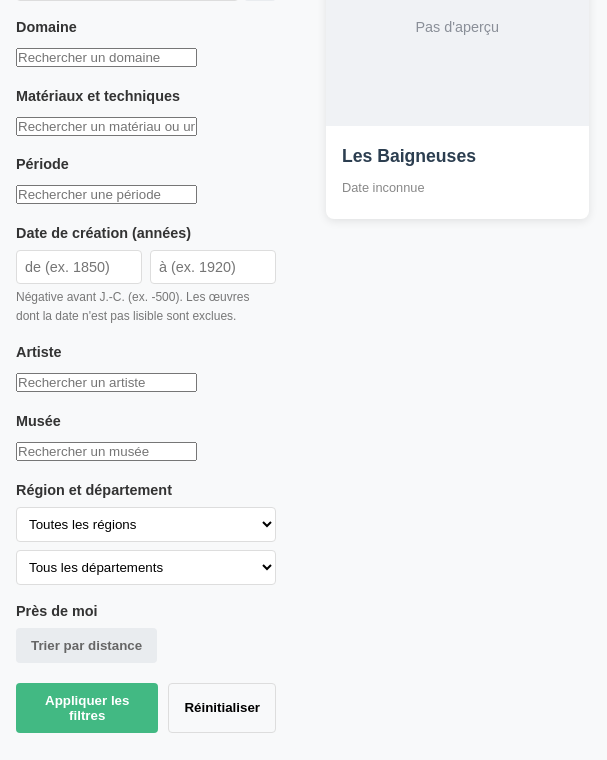
SearchView : recherche géographique › explique quand la position est refusée, sans changer la recherche
(page scrolled)
Click the button with test id "near-me".
click(87, 645)  # box [16,628,157,663]
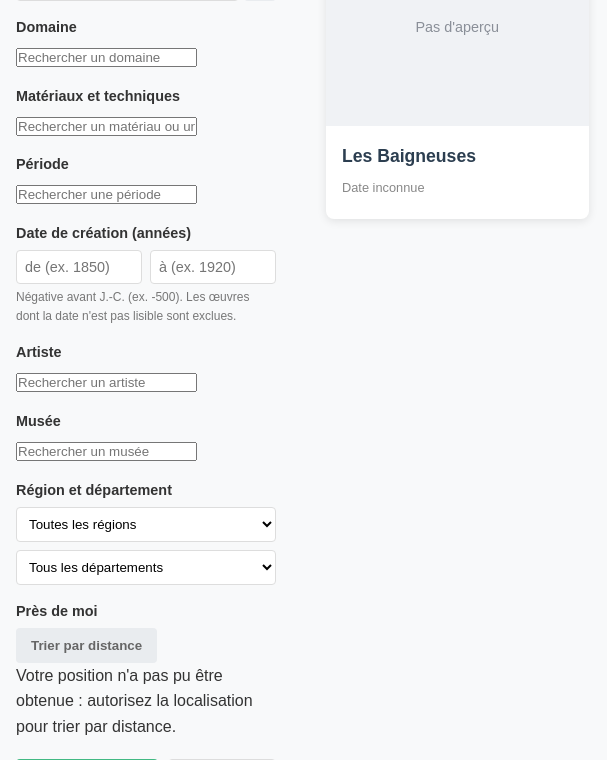
Result: the text with test id "position-error" shows "n'a pas pu être obtenue" at [16,667,253,735]
